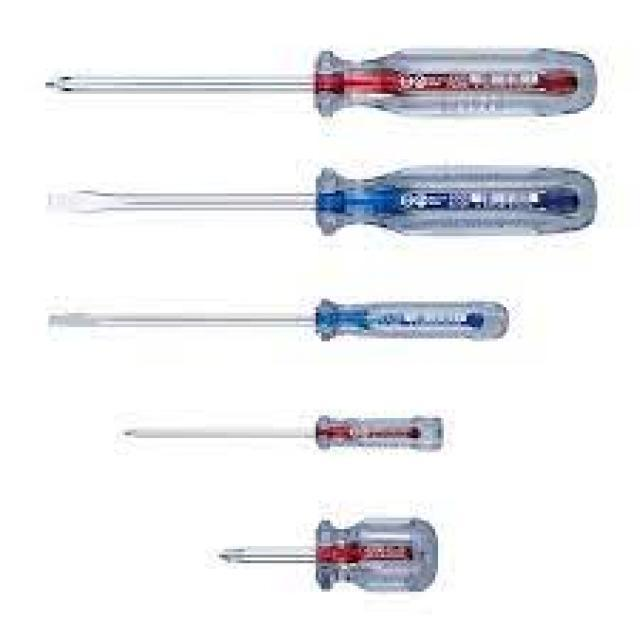screwdriver: (38, 150, 604, 244), (27, 36, 604, 122), (48, 293, 518, 347), (194, 513, 444, 596), (117, 406, 456, 454)
